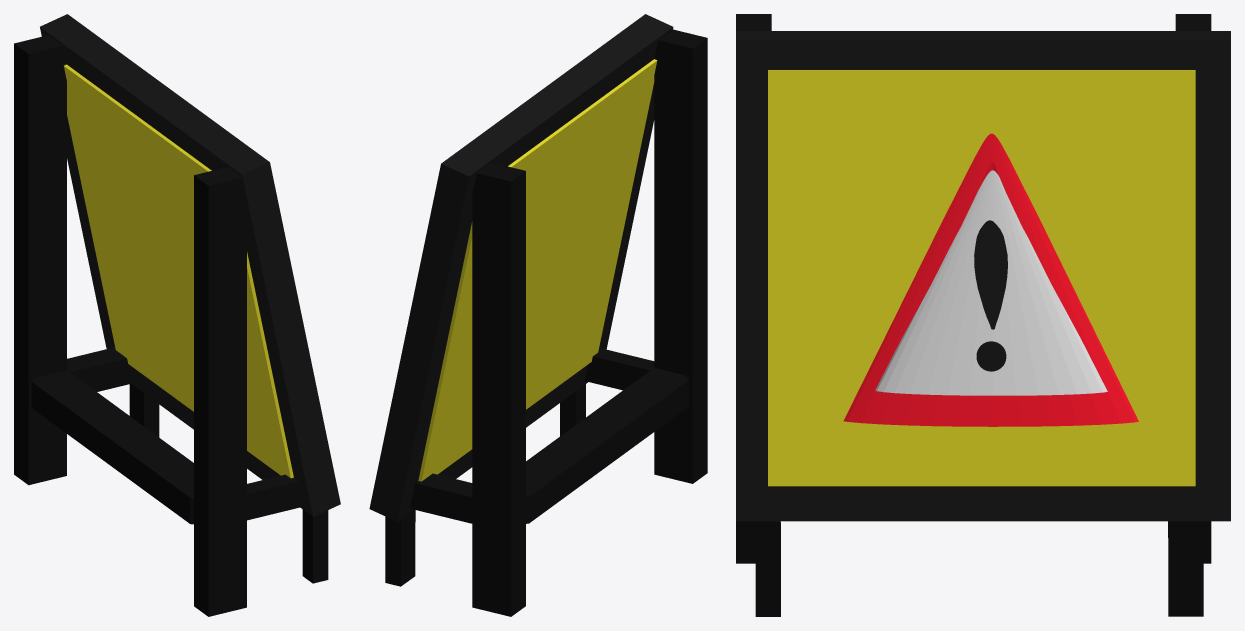
File: yolçalışma1.fbx
The picture shows the model from 3 angles, left to right: view 1: azimuth 30°, elevation 25°; view 2: azimuth 150°, elevation 25°; view 3: azimuth 270°, elevation 25°; orthographic projection. The views are drawn at different scales.
Parts seen in each view (by area): view 1: Cube.002; view 2: Cube.002; view 3: Cube.002.
Part boxes in pixels (x1,y1,x2,y2): Cube.002: (14,14,340,616); Cube.002: (369,14,707,616); Cube.002: (736,14,1230,616).
Bounding box in the file's own units: 120 × 380 × 317.
